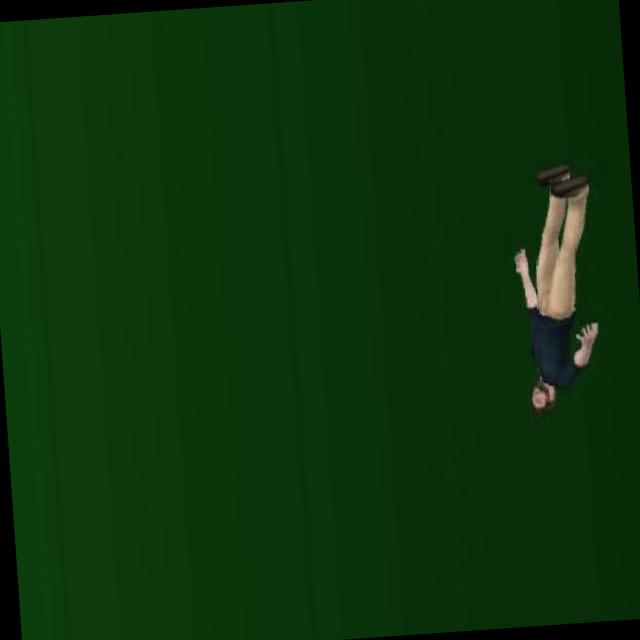Person: (499, 154, 608, 421)
